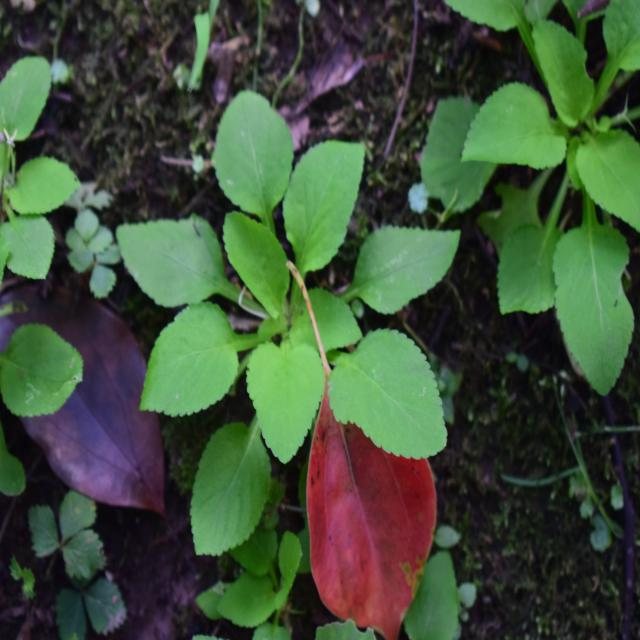Viola: (140, 94, 467, 527)
